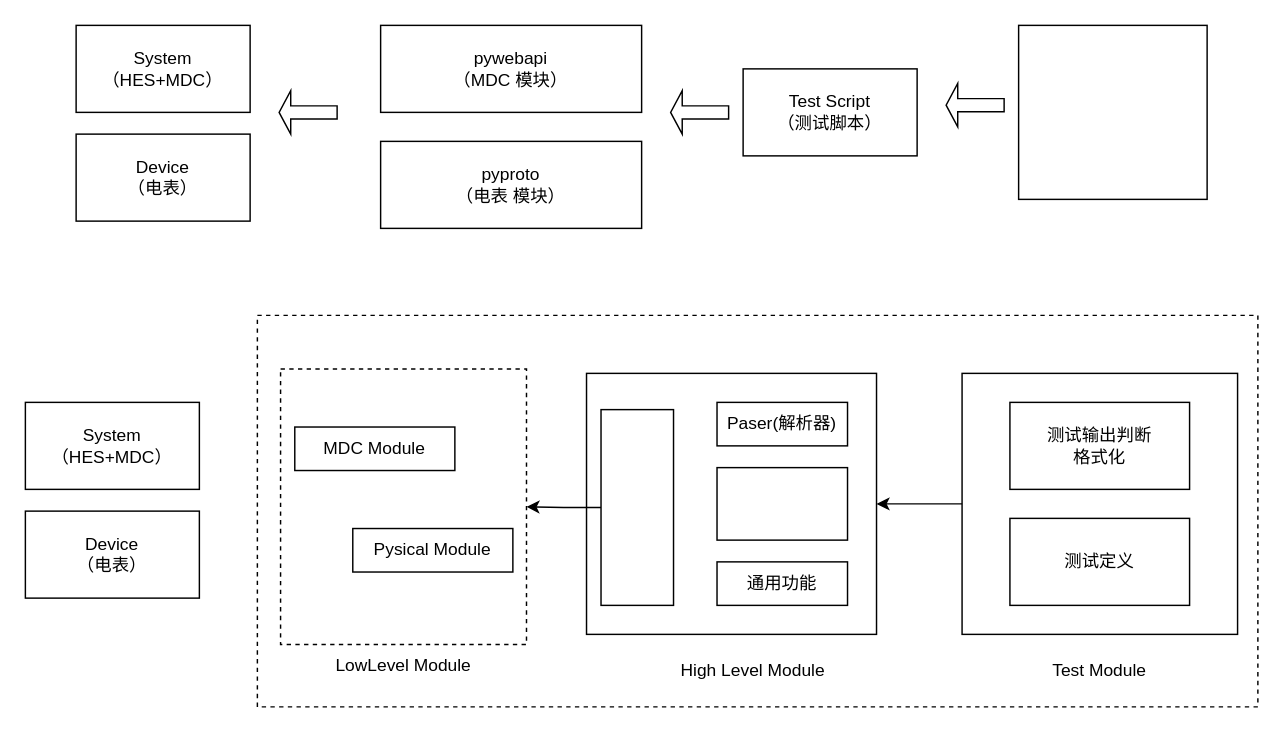
Some shapes in this 1283 by 732 pixel diagram are drawn without their labels. Here are the shapes that lost their labels. From the top down, the centre of each, then its label:
At point 1112,111: "Jenkins (管理)".
At point 637,506: "管理".
At point 782,503: "Interpreter （解释器）".
